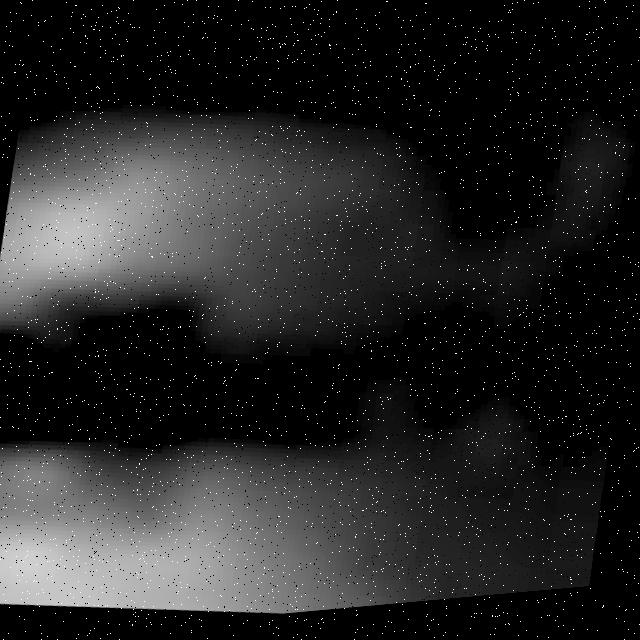person: (1, 66, 397, 352), (1, 420, 398, 640)
